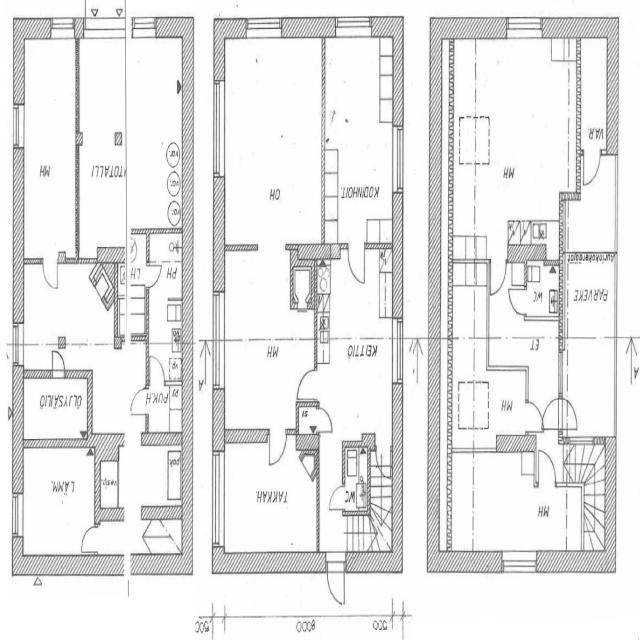door: (297, 400, 332, 444), (324, 551, 348, 609), (345, 240, 369, 288), (294, 362, 319, 406), (535, 446, 558, 490), (267, 424, 289, 469), (506, 282, 530, 319), (487, 256, 508, 298), (126, 382, 150, 418), (580, 148, 602, 186), (40, 254, 60, 294), (541, 393, 561, 432), (559, 395, 580, 431), (524, 396, 544, 432), (147, 352, 166, 388), (315, 401, 335, 435), (49, 345, 68, 379), (145, 257, 164, 289), (327, 482, 345, 514), (630, 329, 640, 363)
window: (209, 74, 228, 181), (209, 446, 228, 551), (208, 285, 226, 390), (84, 8, 125, 42), (500, 546, 540, 579), (505, 11, 546, 43), (391, 120, 406, 198), (245, 11, 284, 40), (334, 9, 373, 38), (390, 320, 405, 387), (130, 10, 159, 41), (209, 337, 225, 392), (49, 11, 77, 41), (10, 101, 26, 152), (10, 490, 25, 541), (556, 339, 568, 399), (10, 322, 25, 369)
zone: (450, 35, 576, 256), (221, 32, 322, 250), (218, 249, 315, 435), (322, 33, 397, 246), (317, 250, 397, 444), (452, 319, 562, 448), (19, 35, 79, 264), (446, 451, 567, 561), (75, 36, 127, 262), (218, 441, 319, 555), (126, 38, 184, 228), (18, 445, 97, 557), (99, 440, 184, 517), (561, 332, 617, 440), (19, 373, 92, 447), (146, 244, 185, 372), (577, 40, 616, 154), (142, 382, 185, 442), (525, 260, 561, 320), (343, 440, 369, 511), (117, 292, 147, 342), (126, 229, 148, 297), (295, 402, 320, 449)
